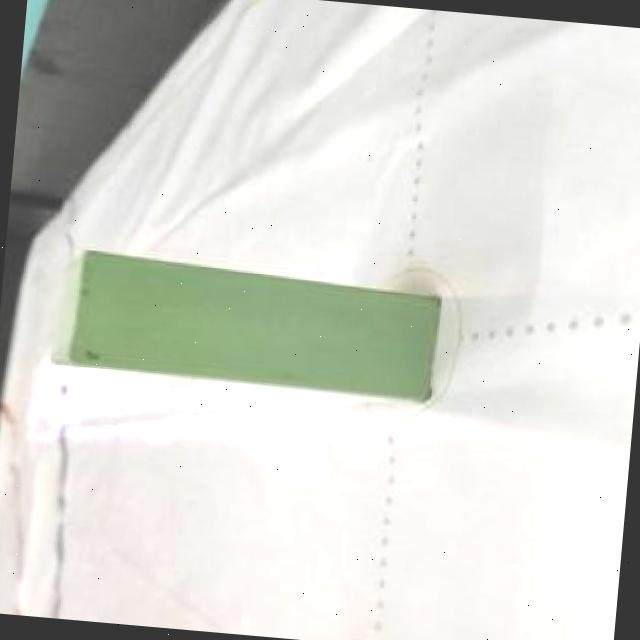greenbox: (44, 244, 447, 402)
